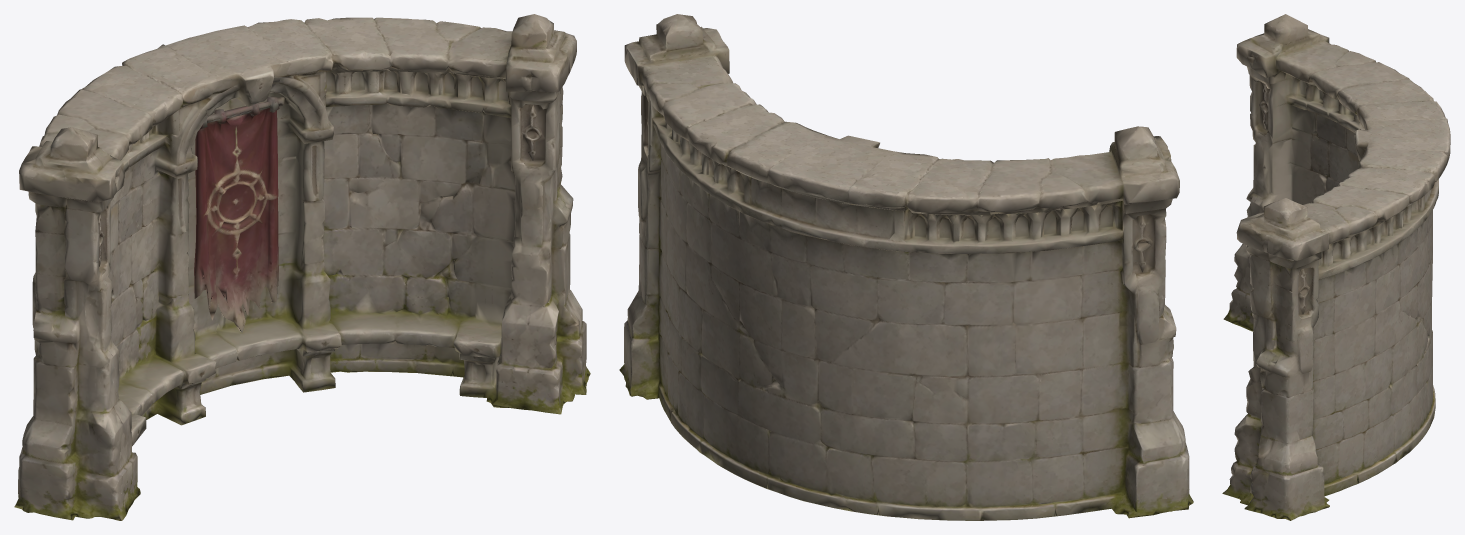
Rendered from hub_wall_segment.glb.
3 renders of one model, left to right at view 1: azimuth 30°, elevation 25°; view 2: azimuth 150°, elevation 25°; view 3: azimuth 270°, elevation 25°, orthographic. The views are drawn at different scales.
Visible parts, largest first — view 1: tripo_node_16943d37-ecc1-4b68-8c0d-53c3e03049d7; view 2: tripo_node_16943d37-ecc1-4b68-8c0d-53c3e03049d7; view 3: tripo_node_16943d37-ecc1-4b68-8c0d-53c3e03049d7.
Boxes of the visible parts, box(x1,y1,x2,y2) form: tripo_node_16943d37-ecc1-4b68-8c0d-53c3e03049d7: box(14, 14, 590, 520); tripo_node_16943d37-ecc1-4b68-8c0d-53c3e03049d7: box(619, 14, 1193, 520); tripo_node_16943d37-ecc1-4b68-8c0d-53c3e03049d7: box(1222, 14, 1450, 520).
Size of the model in its own units: 1 by 0.6168 by 0.424.
1 material, 1 textured.
